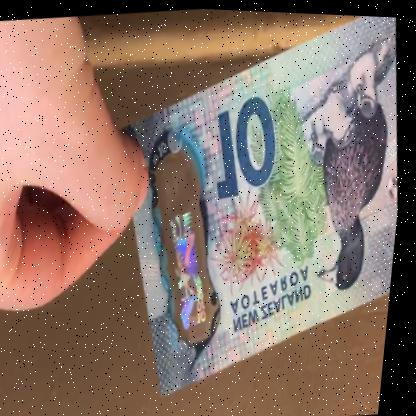10F: (154, 153, 228, 336)
